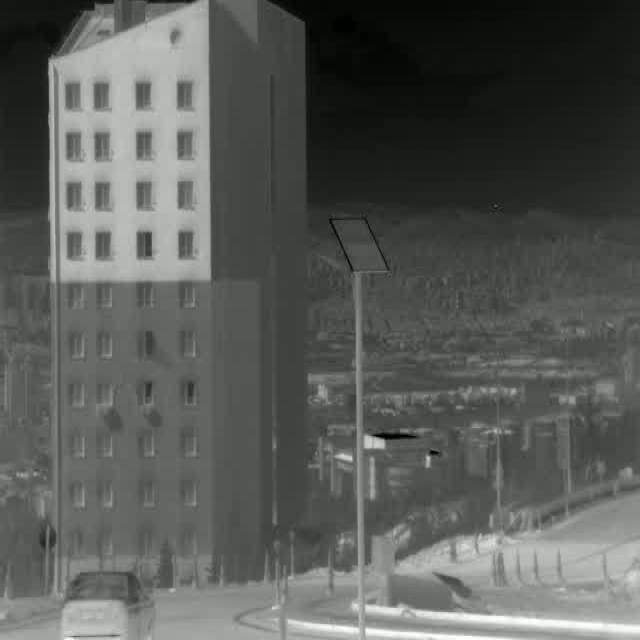Car: (60, 568, 158, 640)
